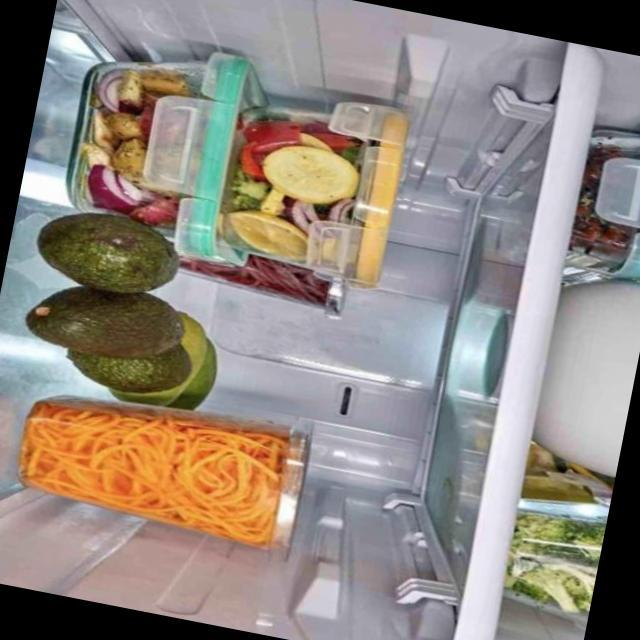Brocoli: (501, 508, 606, 613)
Cebolla: (87, 165, 147, 214), (92, 66, 126, 113)
Limón: (226, 207, 312, 262)
mango: (32, 202, 186, 302), (23, 275, 188, 368), (65, 349, 188, 400)
